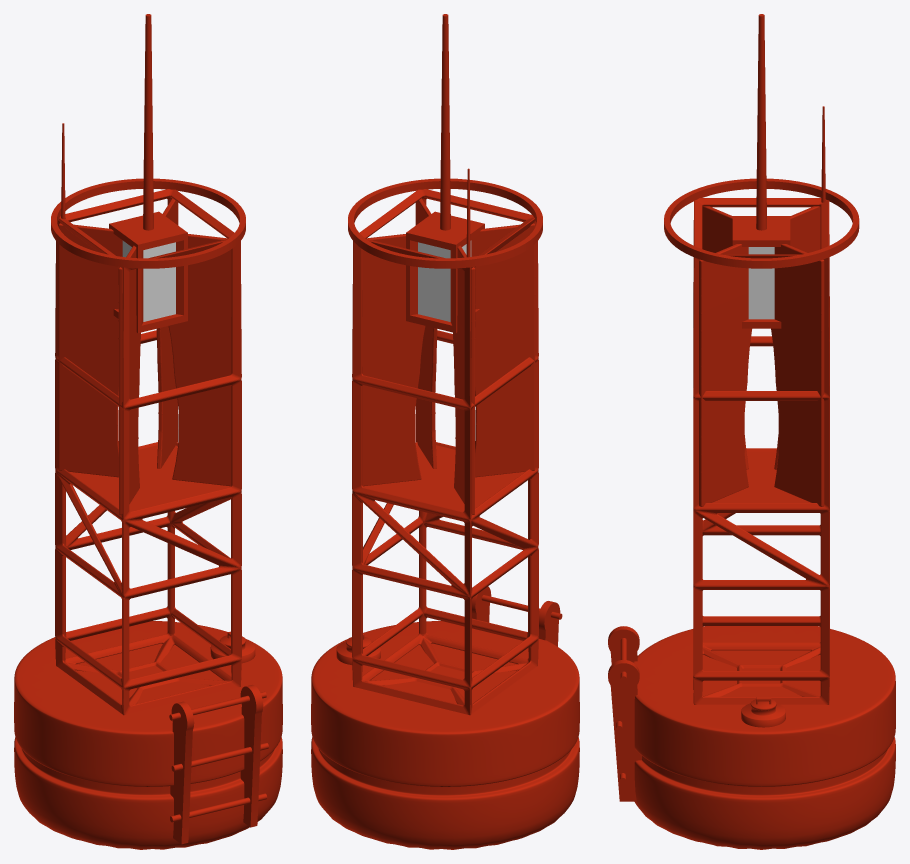
The model's file is uploads_files_4145195_tempete.fbx.
3 renders of one model, left to right at view 1: azimuth 30°, elevation 25°; view 2: azimuth 150°, elevation 25°; view 3: azimuth 270°, elevation 25°, orthographic.
Visible parts, largest first — view 1: Cylinder, Cube, Plane.003, Cube.003, Circle, Circle.001, Plane.002, Cylinder.004, Cylinder.003, Cylinder.002, Circle.002, Cylinder.001; view 2: Cylinder, Plane.003, Cube, Cube.003, Circle.001, Plane.002, Cylinder.004, Circle, Circle.002; view 3: Cylinder, Plane.003, Cube, Circle.001, Circle, Cube.003, Plane.002, Cylinder.004, Circle.002.
Part boxes in pixels (bbox=[...]): Cylinder: bbox=[14, 621, 282, 849]; Cube: bbox=[55, 189, 241, 715]; Plane.003: bbox=[58, 198, 231, 514]; Cube.003: bbox=[109, 211, 187, 333]; Circle: bbox=[170, 685, 263, 844]; Circle.001: bbox=[51, 178, 245, 268]; Plane.002: bbox=[69, 445, 230, 511]; Cylinder.004: bbox=[143, 14, 153, 230]; Cylinder.003: bbox=[170, 793, 267, 822]; Cylinder.002: bbox=[171, 743, 268, 771]; Circle.002: bbox=[210, 631, 255, 663]; Cylinder.001: bbox=[169, 691, 266, 720]; Cylinder: bbox=[311, 621, 579, 849]; Plane.003: bbox=[362, 198, 535, 514]; Cube: bbox=[352, 189, 538, 715]; Cube.003: bbox=[406, 211, 484, 333]; Circle.001: bbox=[348, 178, 542, 268]; Plane.002: bbox=[363, 445, 524, 511]; Cylinder.004: bbox=[440, 14, 450, 230]; Circle: bbox=[472, 586, 560, 646]; Circle.002: bbox=[336, 633, 380, 665]; Cylinder: bbox=[633, 626, 895, 849]; Plane.003: bbox=[699, 206, 824, 506]; Cube: bbox=[693, 198, 829, 704]; Circle.001: bbox=[664, 178, 859, 268]; Circle: bbox=[608, 626, 641, 801]; Cube.003: bbox=[732, 216, 790, 328]; Plane.002: bbox=[712, 451, 811, 502]; Cylinder.004: bbox=[756, 14, 766, 230]; Circle.002: bbox=[741, 697, 785, 727].
Size of the model in its own units: 199 by 648 by 213.
